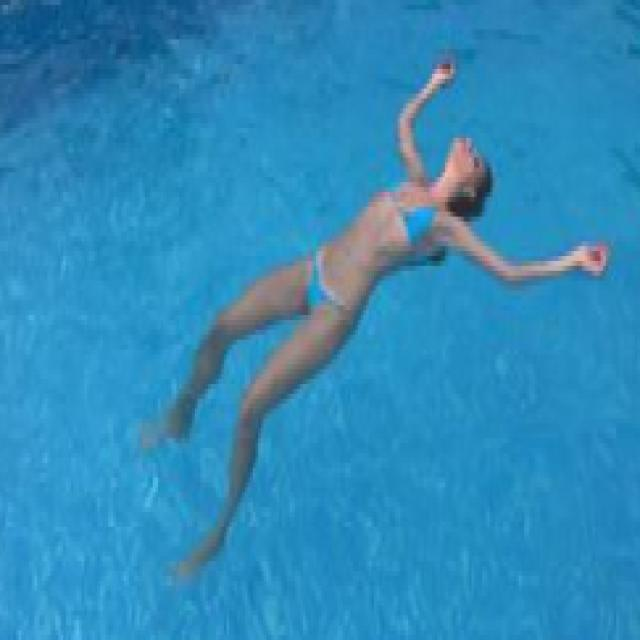Drowning: (145, 53, 611, 581)
